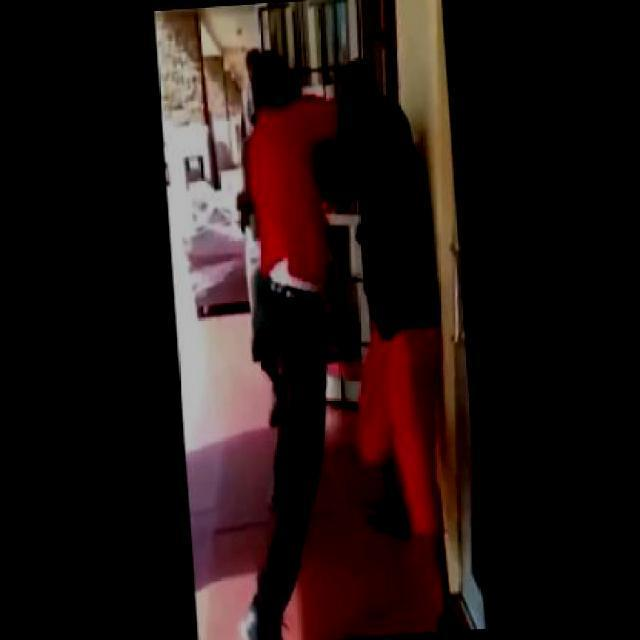fight: (240, 42, 458, 613)
